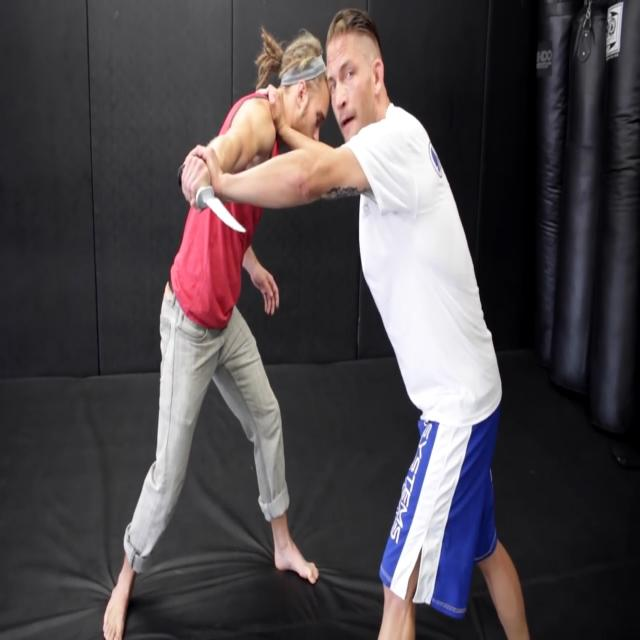knife: (194, 176, 256, 257)
